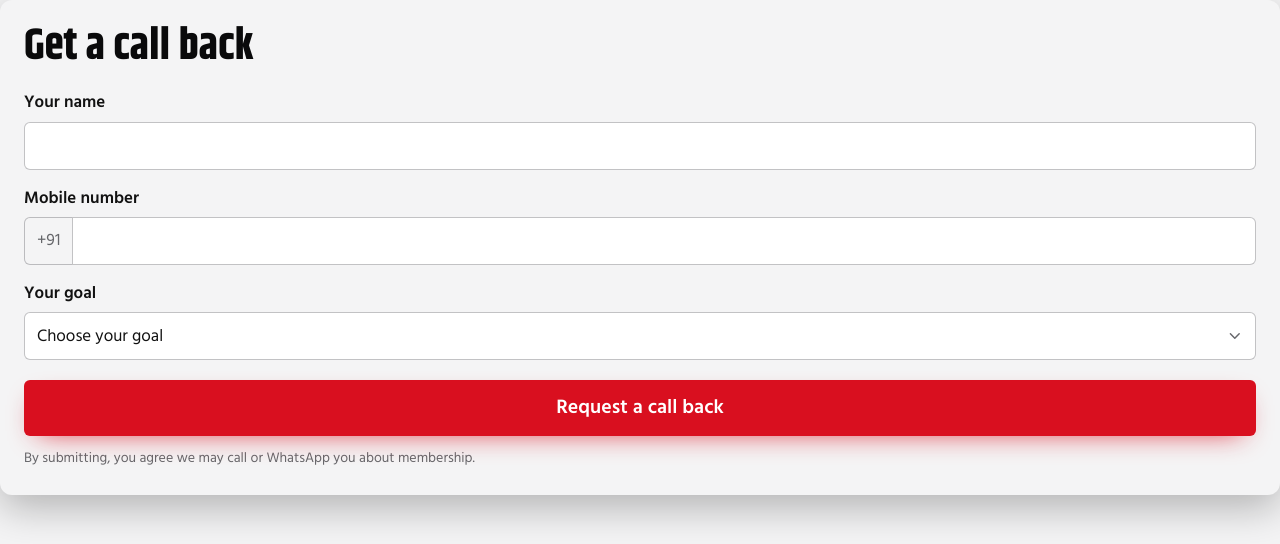
Test: LeadForm › submits the lead and shows the success message
Type "Priya Sharma" into the field labelled "Your name" at (640, 146), box [24,122,1256,170]
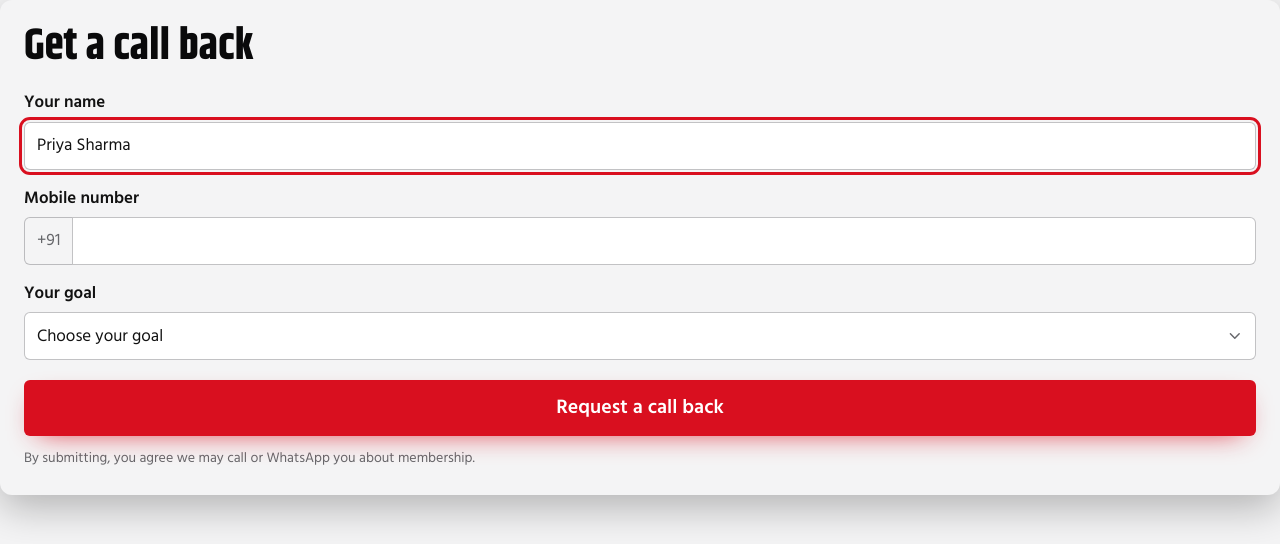
Type "9876543210" into the field labelled "Mobile number" at (664, 241), box [72,217,1256,265]
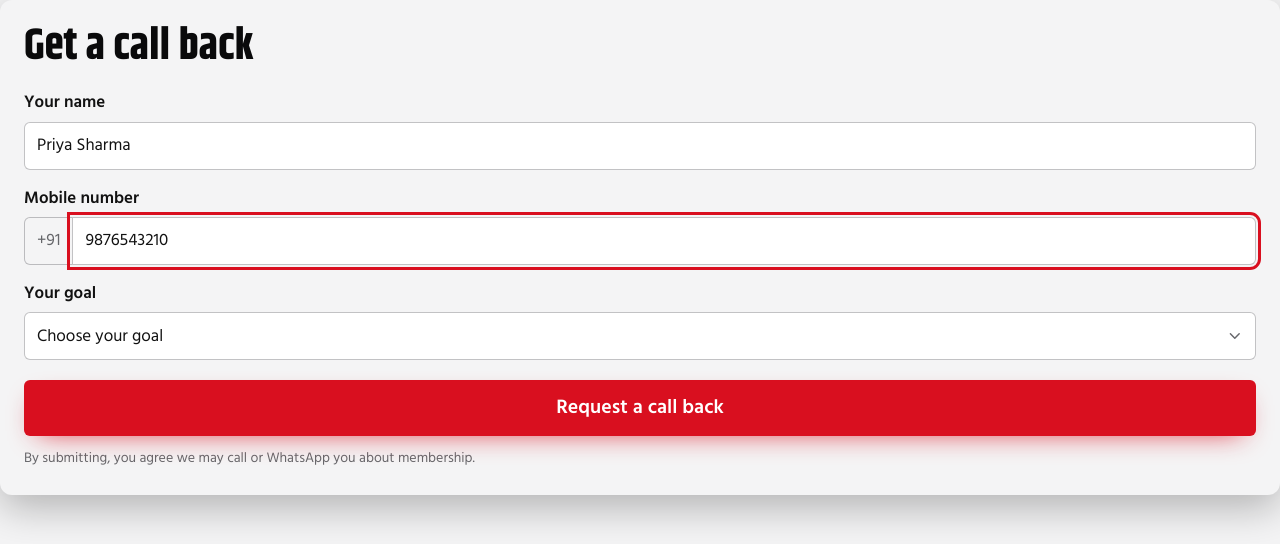
Select "Get fit and active" in the dropdown labelled "Your goal" at (640, 336), box [24,312,1256,360]
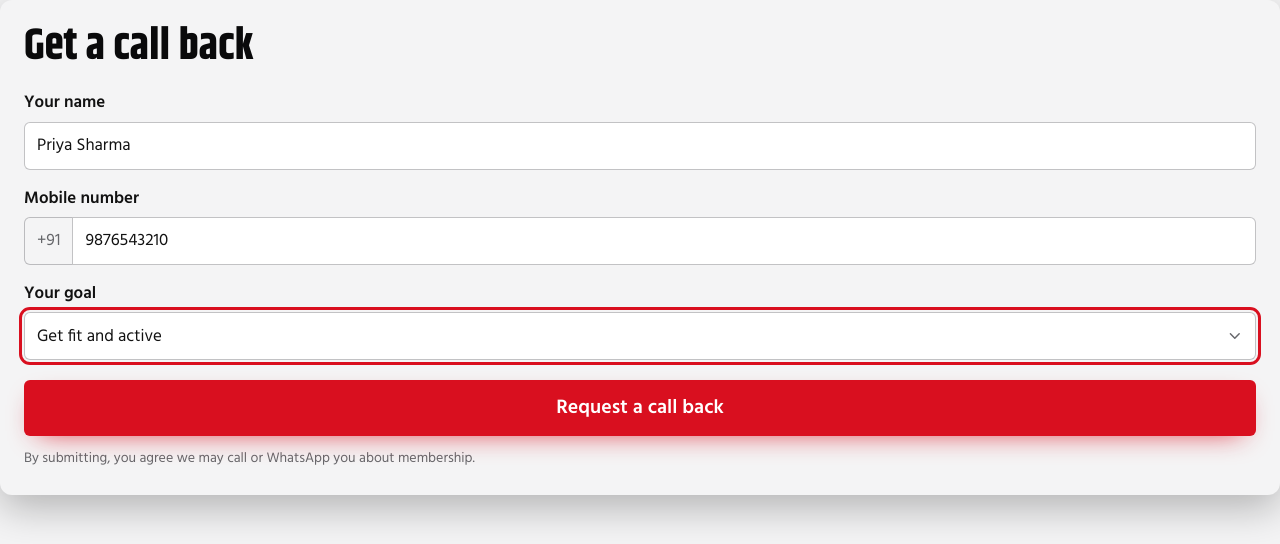
Click the button "Request a call back" at (640, 408), box [24,380,1256,436]
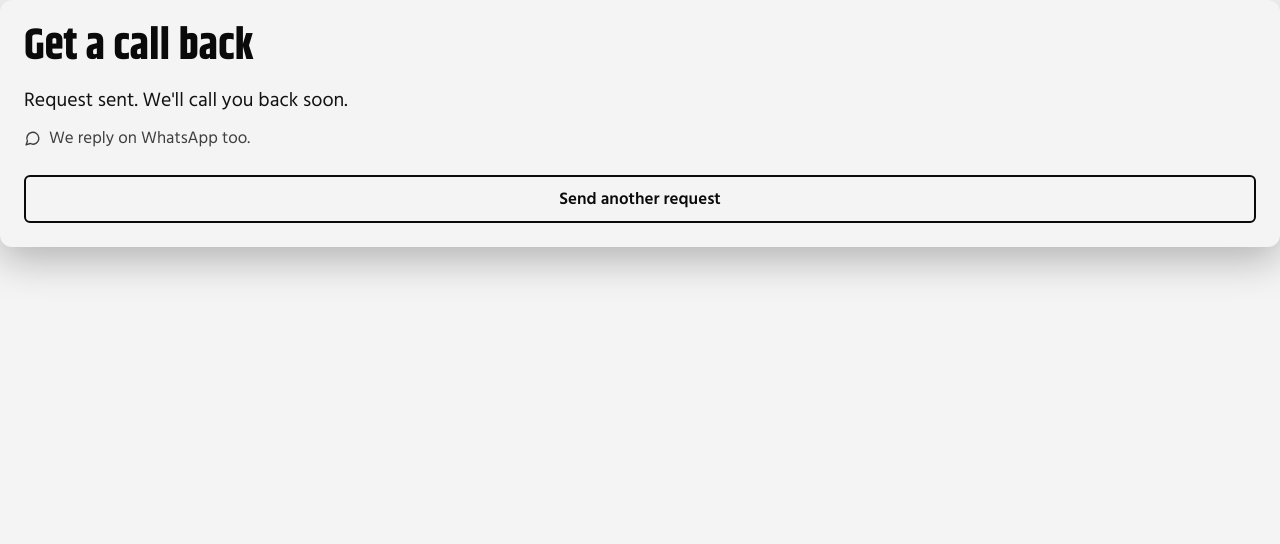
Expected: the text "Request sent. We'll call you back soon." is shown, [24,85,348,117]
